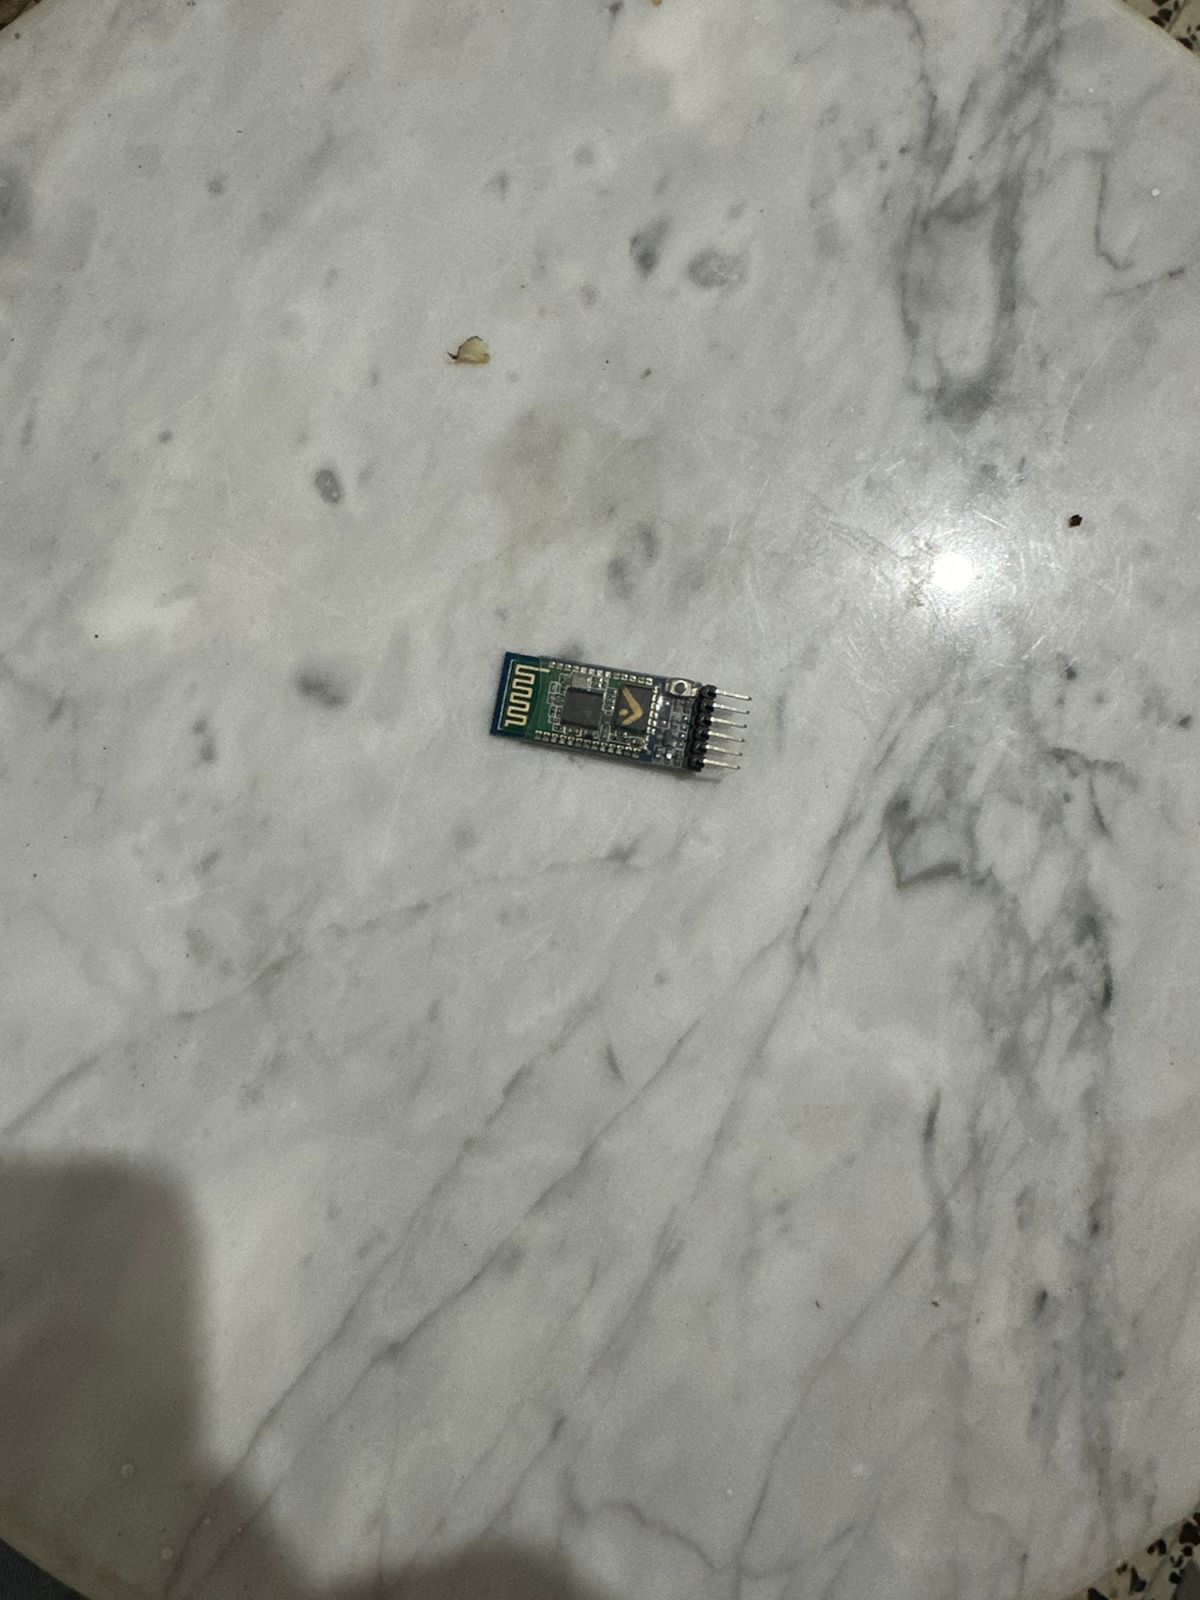module-bluetooth: (458, 648, 778, 784)
